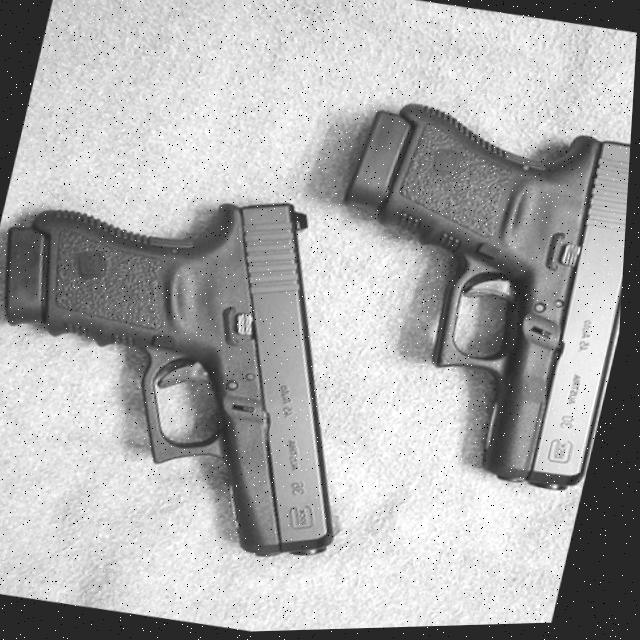pistol: (0, 153, 415, 579), (289, 89, 635, 506)
